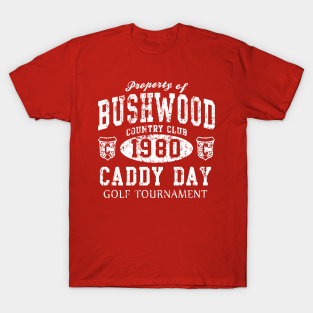design: (96, 78, 218, 200)
